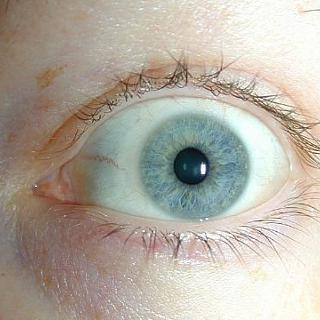pupil: (173, 148, 210, 185)
